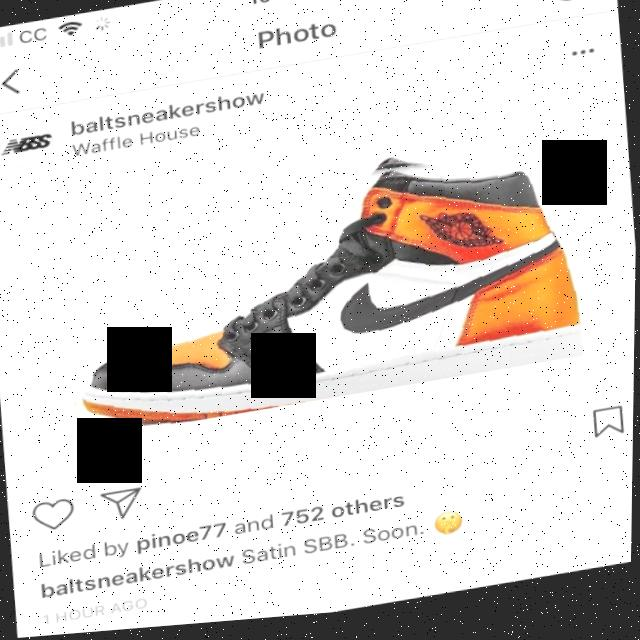shoe: (47, 134, 587, 445)
